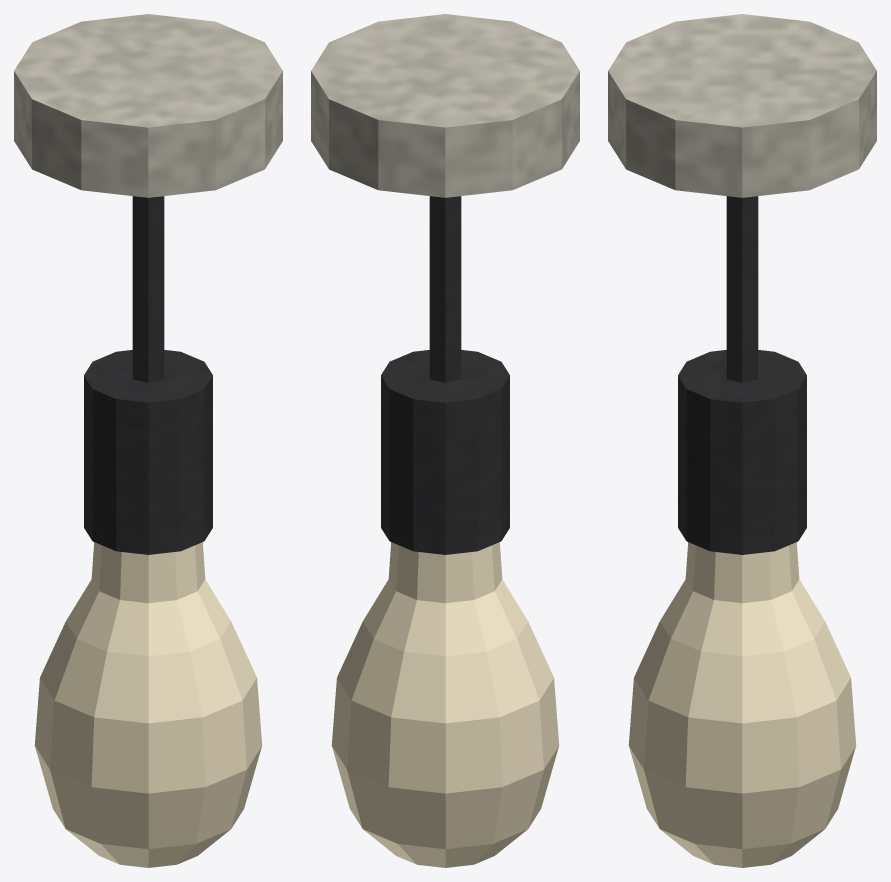
File: bulb_lamp.fbx
3 renders of one model, left to right at view 1: azimuth 30°, elevation 25°; view 2: azimuth 150°, elevation 25°; view 3: azimuth 270°, elevation 25°, orthographic.
Parts seen in each view (by area): view 1: bulb_lamp; view 2: bulb_lamp; view 3: bulb_lamp.
Part boxes in pixels (bbox=[...]): bulb_lamp: bbox=[14, 14, 282, 867]; bulb_lamp: bbox=[311, 14, 579, 867]; bulb_lamp: bbox=[608, 14, 876, 867].
Bounding box in the file's own units: 10.4 × 33.5 × 10.4.
